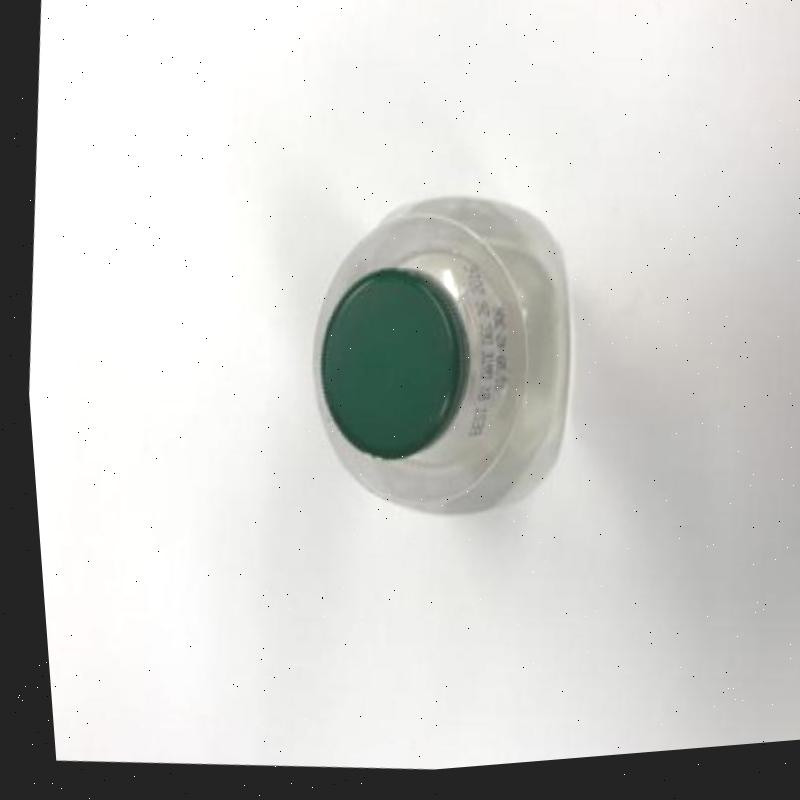botella: (278, 180, 591, 543)
